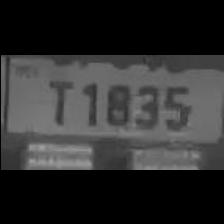1: (75, 76, 101, 126)
3: (130, 78, 159, 130)
5: (158, 79, 192, 129)
8: (99, 78, 130, 126)
T: (41, 73, 75, 125)
